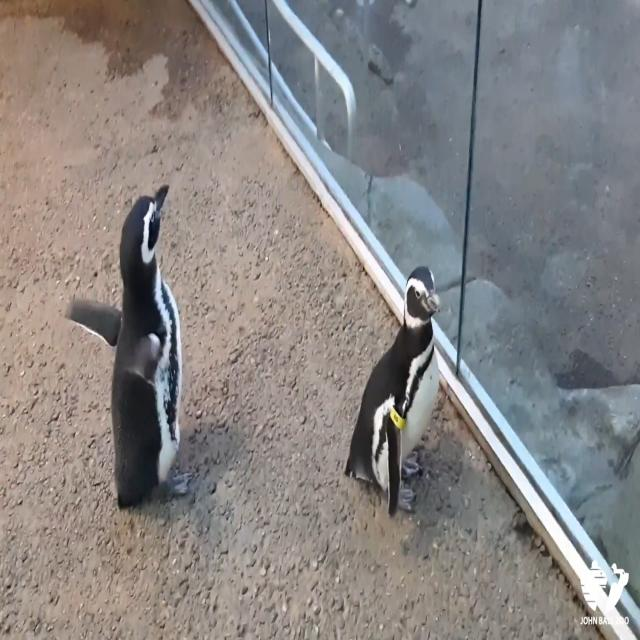penguin: (66, 184, 193, 514), (345, 266, 442, 520)
